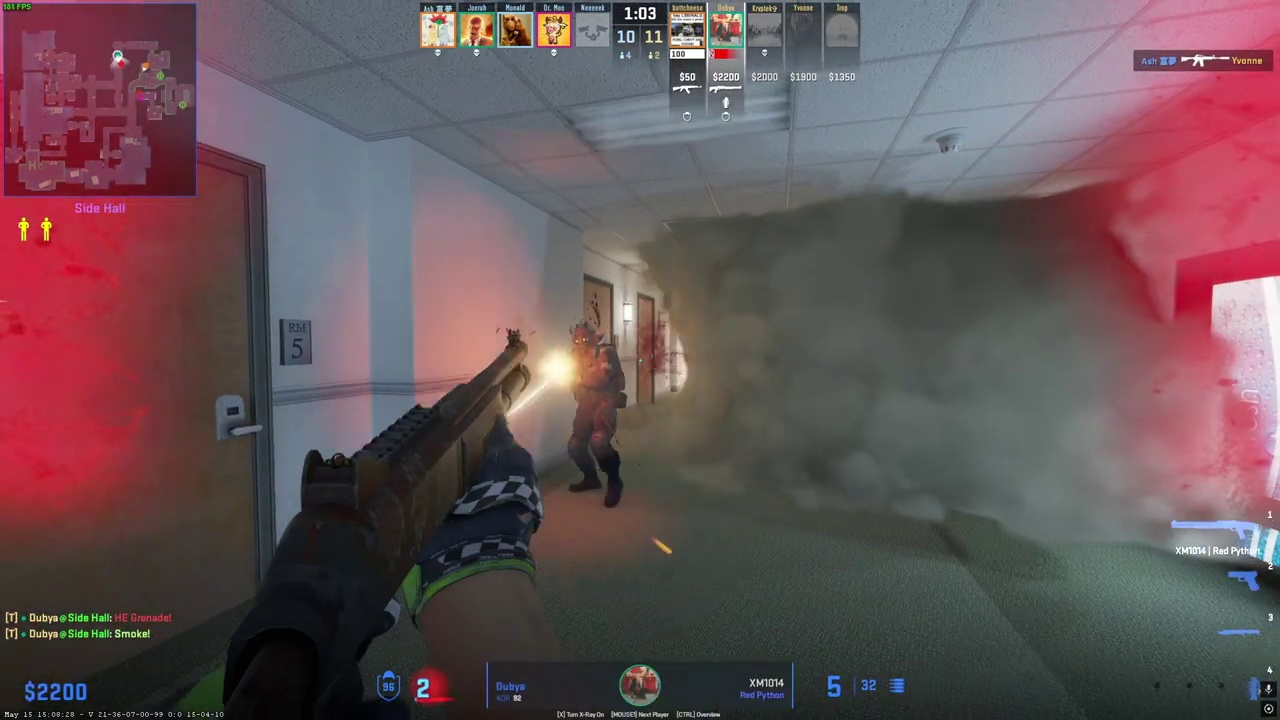CT: (564, 320, 627, 505)
